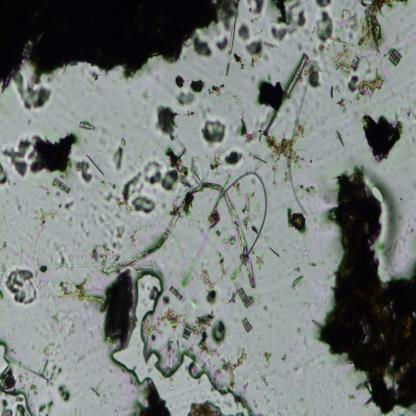Air bubble: (110, 265, 256, 416), (368, 184, 385, 204)
Background material: (0, 0, 229, 116), (321, 163, 416, 416), (5, 131, 92, 190), (106, 150, 167, 216), (44, 272, 104, 330), (357, 0, 411, 51), (103, 272, 138, 344), (154, 137, 200, 190), (357, 111, 404, 162), (270, 164, 312, 211), (141, 302, 188, 339), (261, 127, 303, 164), (214, 84, 246, 132), (137, 378, 176, 416), (0, 370, 32, 416), (214, 345, 246, 389), (328, 39, 365, 77), (283, 53, 313, 98), (222, 6, 240, 79), (239, 181, 262, 234), (346, 69, 387, 97), (273, 0, 310, 31), (312, 9, 337, 54), (5, 269, 34, 306), (185, 27, 214, 63), (155, 102, 181, 141), (48, 244, 77, 277), (82, 240, 118, 266), (259, 76, 285, 112), (335, 8, 362, 42), (106, 136, 130, 173), (243, 40, 274, 68), (198, 309, 216, 354), (284, 204, 308, 236), (203, 266, 222, 306), (207, 115, 229, 148), (209, 316, 230, 349), (185, 399, 221, 416), (172, 86, 196, 110), (207, 148, 224, 175), (37, 340, 62, 358), (189, 72, 206, 98), (42, 360, 58, 387), (226, 145, 244, 168), (246, 0, 264, 23), (271, 25, 292, 43), (263, 111, 278, 136), (34, 213, 48, 237), (232, 49, 246, 73), (299, 184, 317, 202), (248, 149, 267, 166), (237, 23, 253, 42), (218, 252, 228, 280), (242, 128, 262, 142), (0, 162, 10, 189), (172, 70, 186, 89), (114, 223, 128, 241), (54, 387, 73, 400), (41, 400, 56, 416), (405, 98, 416, 119), (260, 347, 272, 365), (268, 243, 282, 258), (86, 382, 99, 398), (314, 0, 334, 10), (334, 130, 345, 148), (257, 373, 272, 386), (338, 96, 349, 112), (223, 234, 236, 247), (276, 349, 288, 363), (257, 254, 266, 272), (291, 275, 302, 289), (64, 196, 72, 213), (0, 261, 7, 275), (335, 82, 343, 94), (150, 287, 158, 299), (347, 392, 358, 400), (162, 294, 170, 305), (0, 290, 6, 303), (330, 86, 335, 98), (309, 259, 316, 266), (216, 230, 222, 237), (130, 377, 135, 385)
Cotton: (94, 178, 262, 294)
Diatom: (54, 178, 70, 194), (308, 70, 322, 88), (78, 120, 97, 131), (390, 50, 403, 66), (169, 286, 182, 301), (242, 317, 253, 333), (237, 287, 248, 302), (243, 295, 255, 308), (182, 327, 193, 339), (312, 319, 323, 328)
